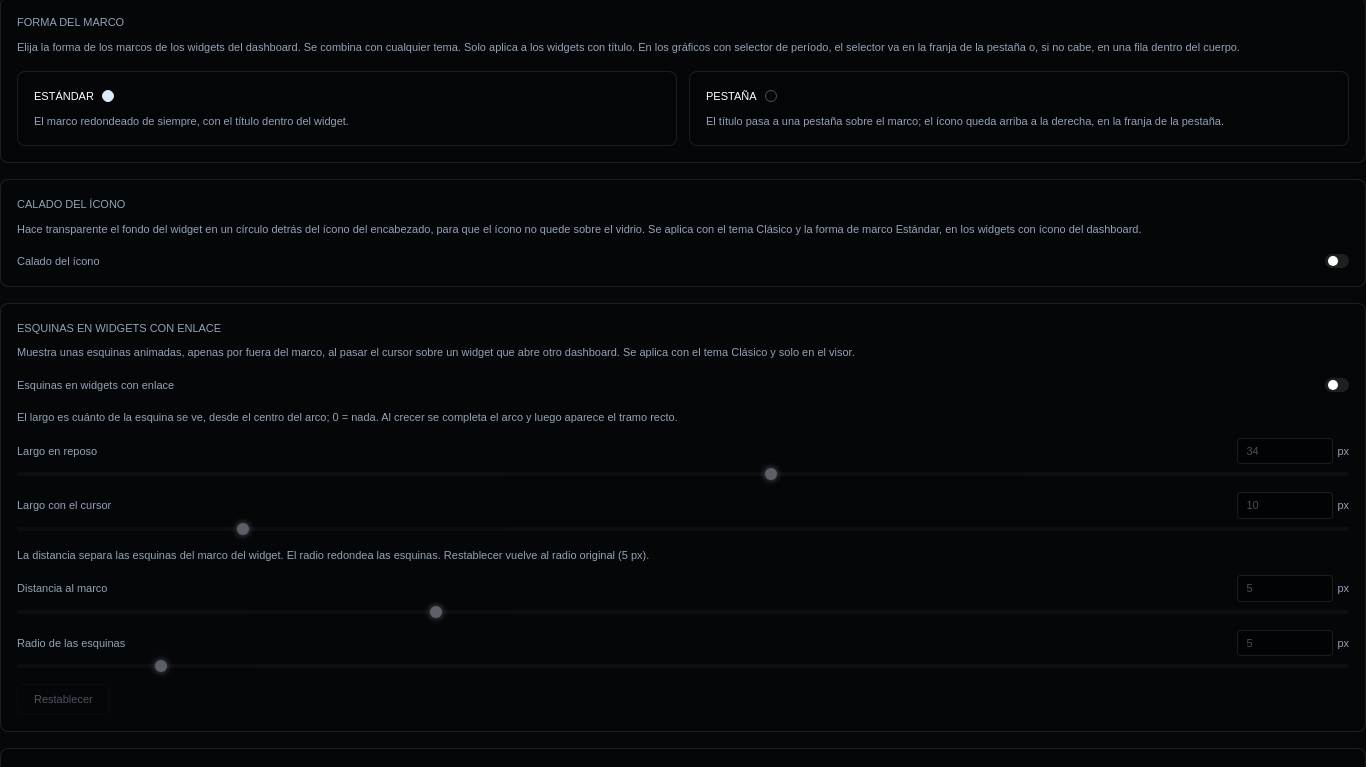
Test: ThemeSettingsTab - Esquinas en widgets con enlace › lengths › stays visible but disabled while the switch is off, and enabled once it is on
The image size is (1366, 767).
(page scrolled)
Expected: the slider named "Largo en reposo" is disabled, left=17, top=472, right=1349, bottom=476
Expected: the slider named "Largo con el cursor" is disabled, left=17, top=526, right=1349, bottom=530
Click the checkbox named "Esquinas en widgets con enlace" at [1337, 385], box left=1325, top=378, right=1349, bottom=392
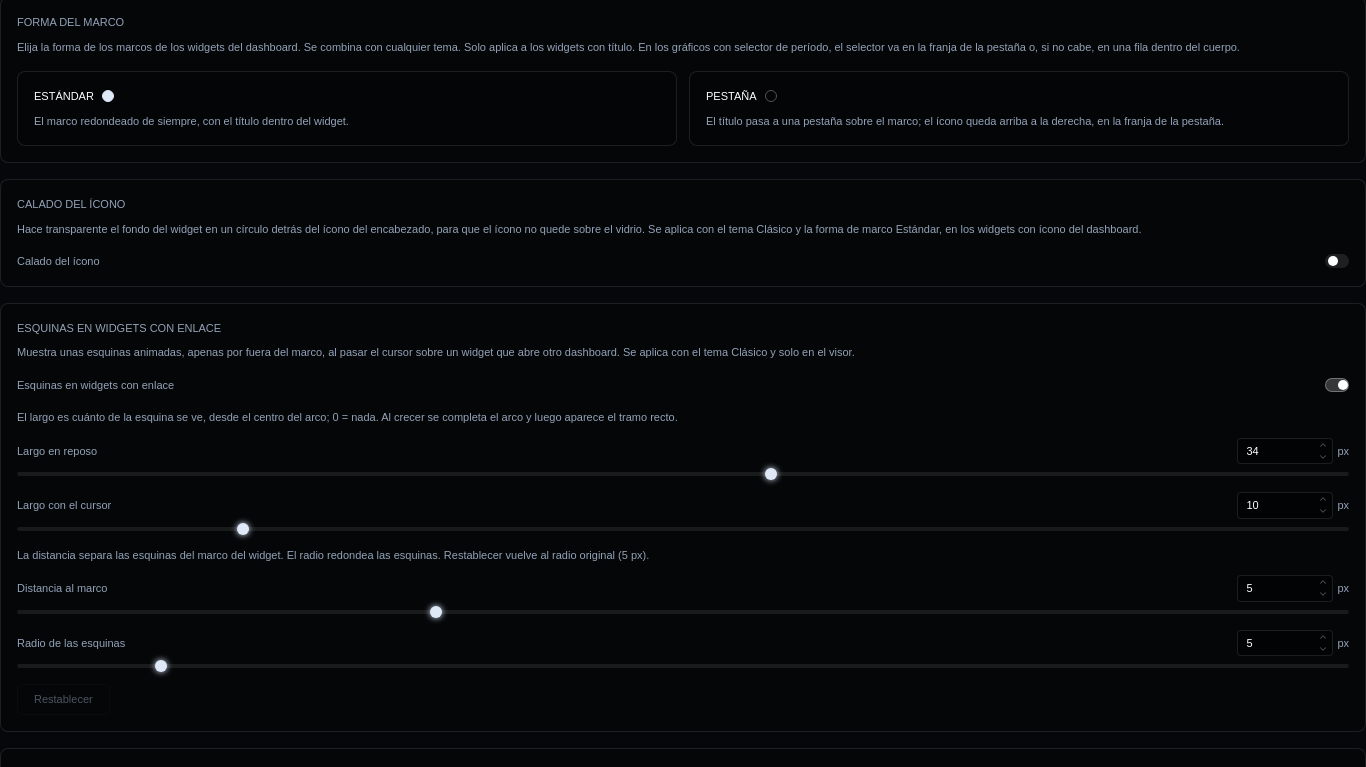
Expected: the slider named "Largo en reposo" is enabled, left=17, top=472, right=1349, bottom=476
Expected: the slider named "Largo con el cursor" is enabled, left=17, top=526, right=1349, bottom=530
